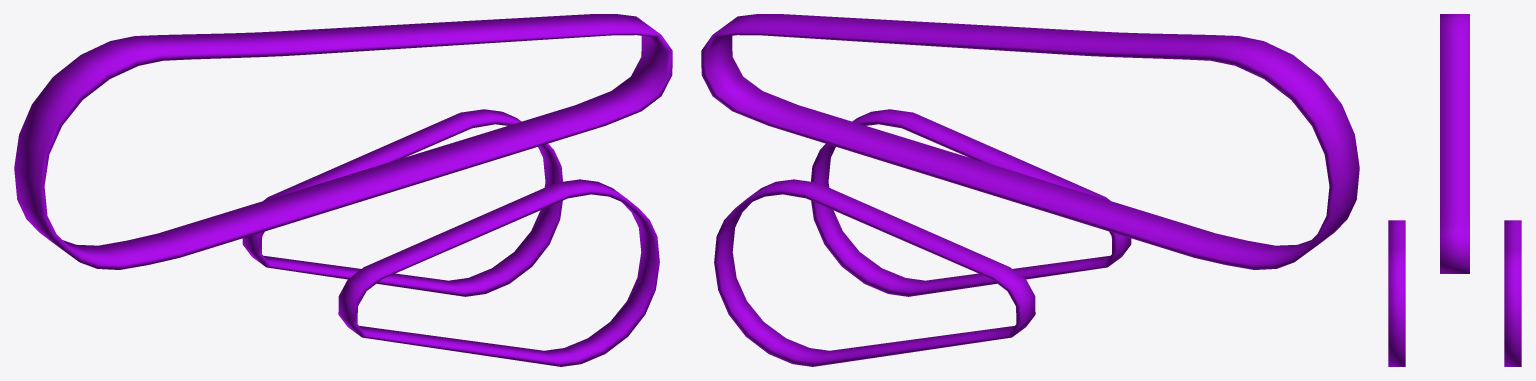
The model's file is Cinta.fbx.
3 views of the same model, side by side, from view 1: azimuth 30°, elevation 25°; view 2: azimuth 150°, elevation 25°; view 3: azimuth 270°, elevation 25° (orthographic). The views are drawn at different scales.
Parts seen in each view (by area): view 1: Cube.011; view 2: Cube.011; view 3: Cube.011.
Part boxes in pixels (x1,y1,x2,y2): Cube.011: (14, 14, 672, 366); Cube.011: (701, 14, 1359, 366); Cube.011: (1388, 14, 1521, 366).
Bounding box in the file's own units: 1058 × 594 × 318.
